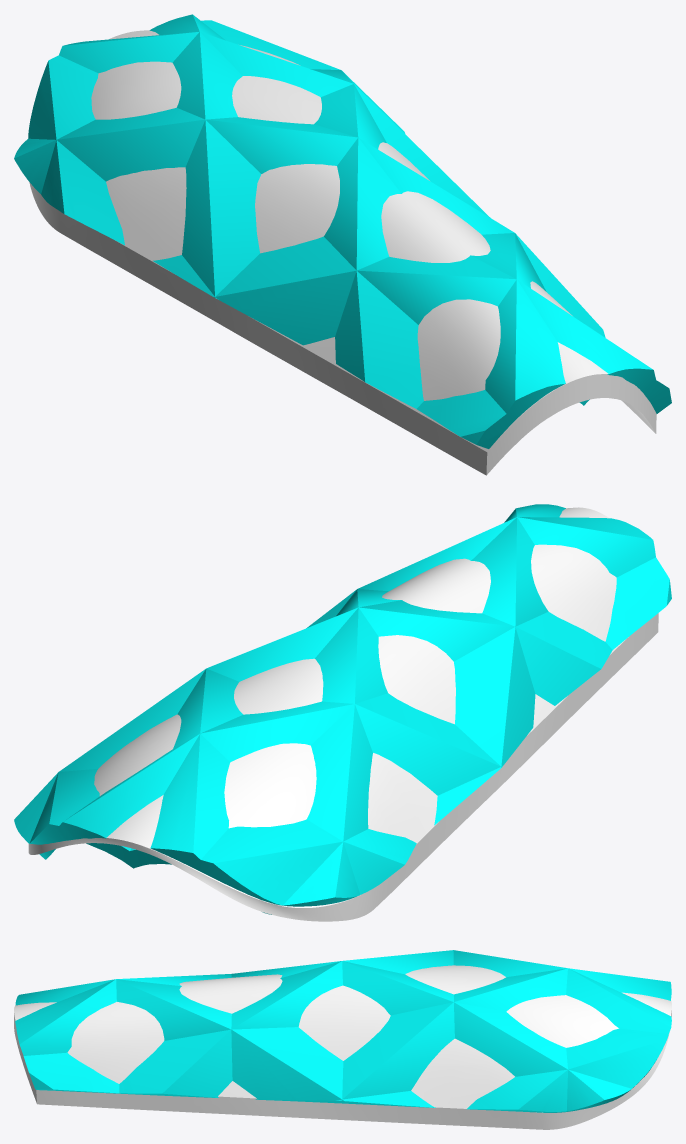
File: prism-web.glb
The picture shows the model from 3 angles, top to bottom: view 1: azimuth 30°, elevation 25°; view 2: azimuth 150°, elevation 25°; view 3: azimuth 270°, elevation 25°; orthographic projection. The views are drawn at different scales.
Size of the model in its own units: 0.0149 by 0.00674 by 0.035.
